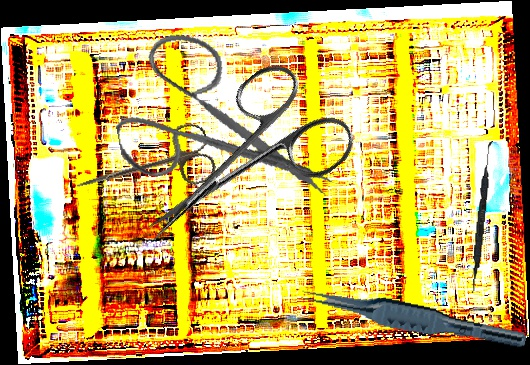Iris Scissors: (112, 48, 364, 286), (100, 9, 336, 235), (69, 119, 219, 218)
Spatula Surgical: (470, 139, 493, 294)
Tissue Forceps: (297, 283, 530, 350)
